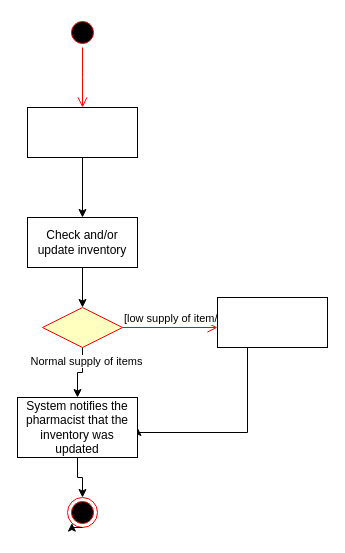
Image size: 345x553. Some labels were removed from this diagram. Here are the shapes that lost their labels. From the top down, the centre of each, then its label:
At [82,132]: "Pharmacist accesses the inventory".
At [272,322]: "Pharmacist notified,ordering prioritized to restock".
